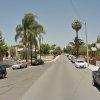Palm tree: (12, 7, 52, 71)
